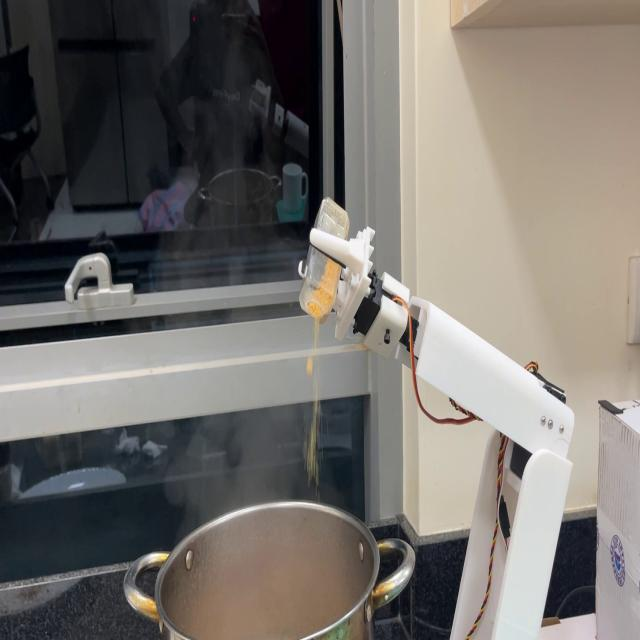cooking_pot: (123, 503, 414, 640)
curry_powder: (308, 256, 334, 346)
